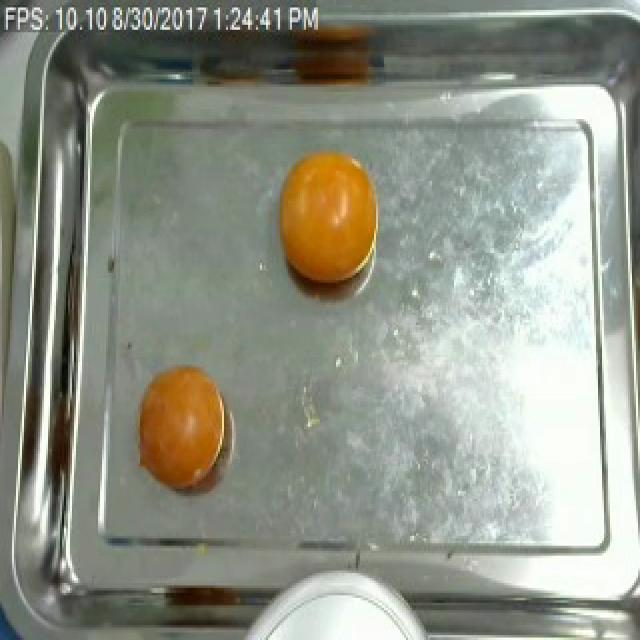Fruit: (266, 139, 380, 293), (130, 354, 232, 498)
